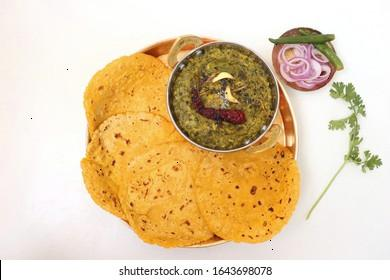saag: (176, 47, 270, 149)
